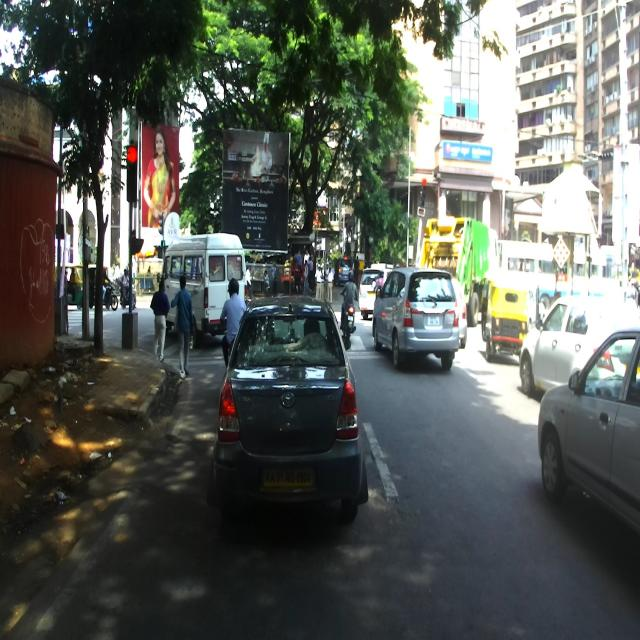car: (212, 299, 367, 529), (536, 329, 640, 531), (518, 290, 640, 396), (372, 270, 459, 369), (358, 263, 388, 319), (333, 256, 356, 287)
mini-bus: (157, 231, 248, 350)
